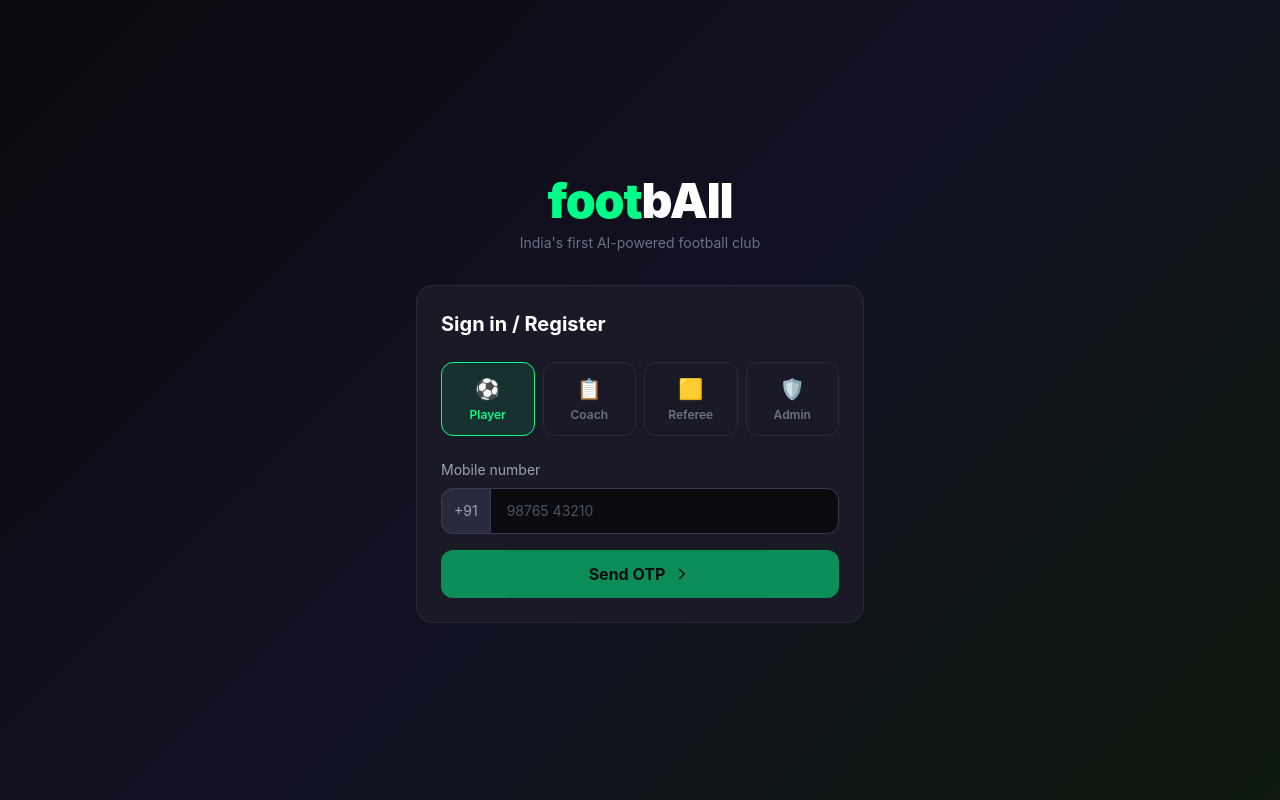
Login page › enables Send OTP button when 10 digits entered
Type "9876543210" into the field with placeholder "98765 43210" at (664, 511), box [490, 488, 839, 534]
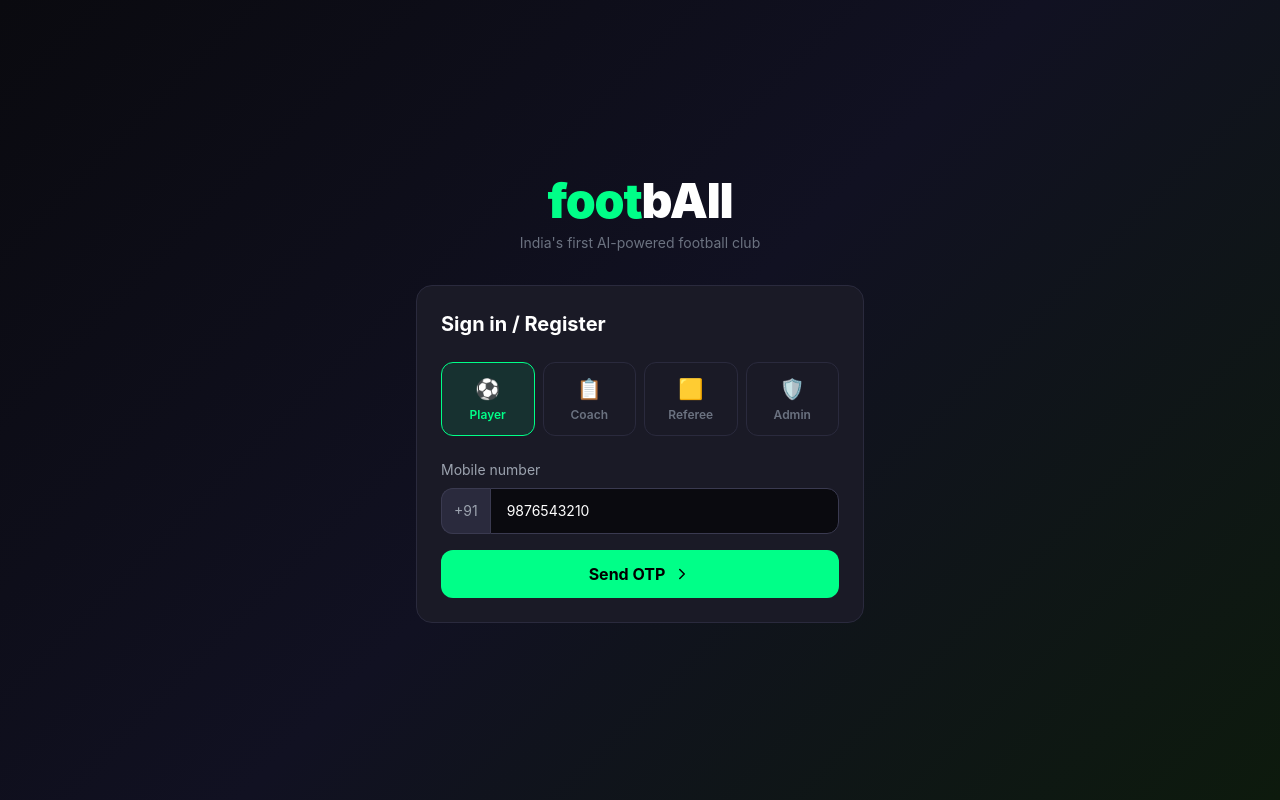
Check: the button "Send OTP" is enabled, box [441, 550, 839, 598]
